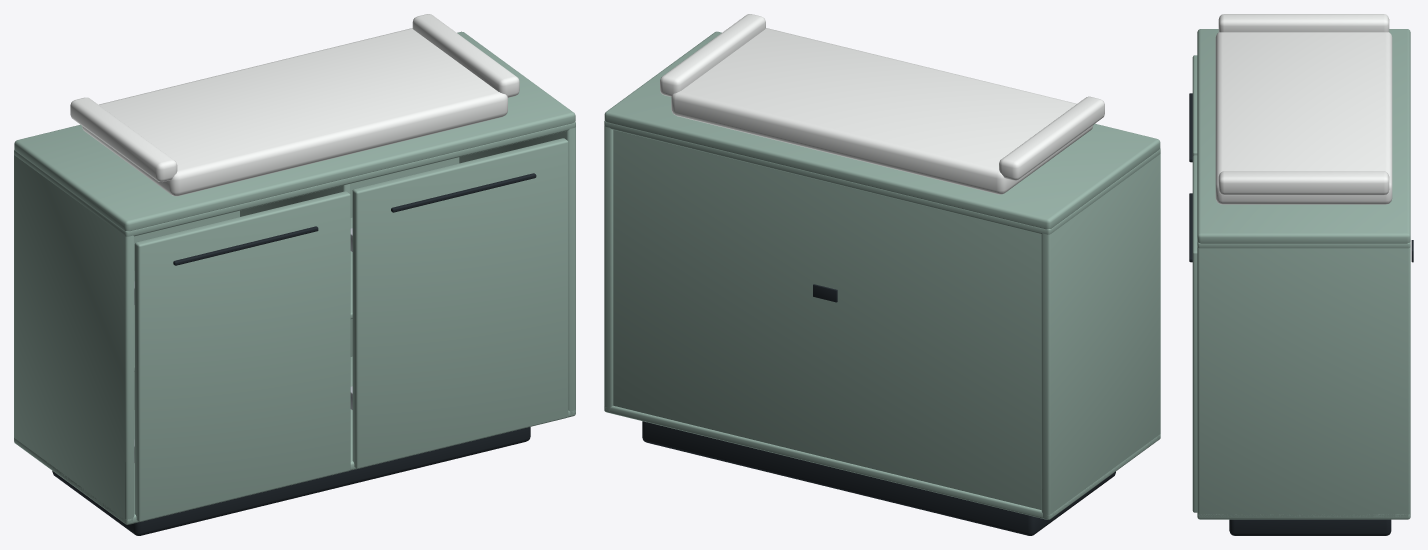
File: sage-nursery-dresser.glb
The picture shows the model from 3 angles, left to right: view 1: azimuth 30°, elevation 25°; view 2: azimuth 150°, elevation 25°; view 3: azimuth 270°, elevation 25°; orthographic projection. The views are drawn at different scales.
Visible parts, largest first — view 1: sage-nursery-dresser; view 2: sage-nursery-dresser; view 3: sage-nursery-dresser.
Part boxes in pixels (x1,y1,x2,y2): sage-nursery-dresser: (14,14,575,535); sage-nursery-dresser: (604,14,1160,535); sage-nursery-dresser: (1189,14,1413,535).
Size of the model in its own units: 1.2 by 0.95 by 0.55.
